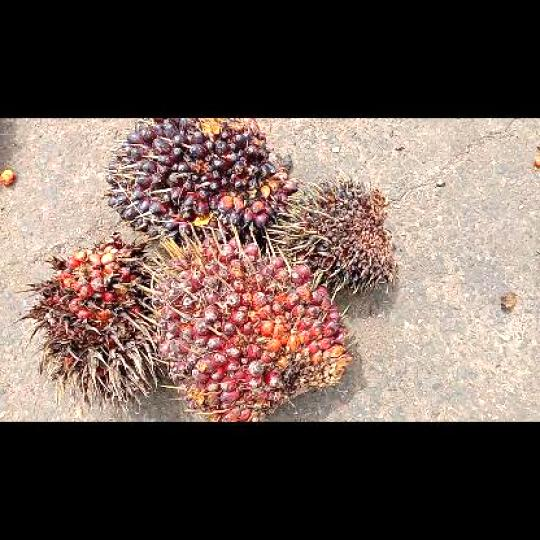kurang masak: (103, 119, 297, 250)
masak: (141, 234, 355, 420)
terlalu masak: (18, 231, 153, 410)
